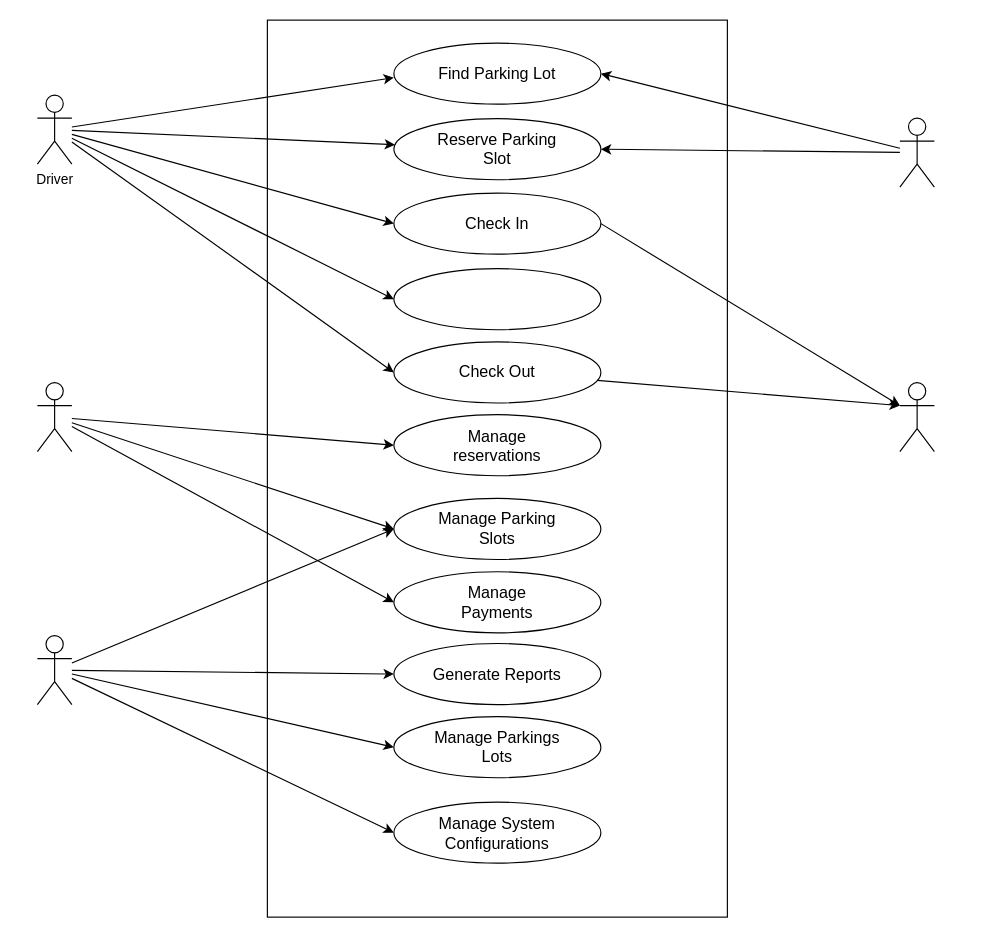
Some shapes in this 990 by 937 pixel diagram are drawn without their labels. The box of each missing label's shape, as (x1, y1, x2, y2) in pixels:
Gate Automation System: (899, 381, 934, 452)
Make Payment: (393, 267, 601, 330)
Parking Lot Manager: (36, 381, 72, 452)
Slot Occupancy System: (899, 117, 934, 187)
System Admin: (36, 634, 72, 705)
